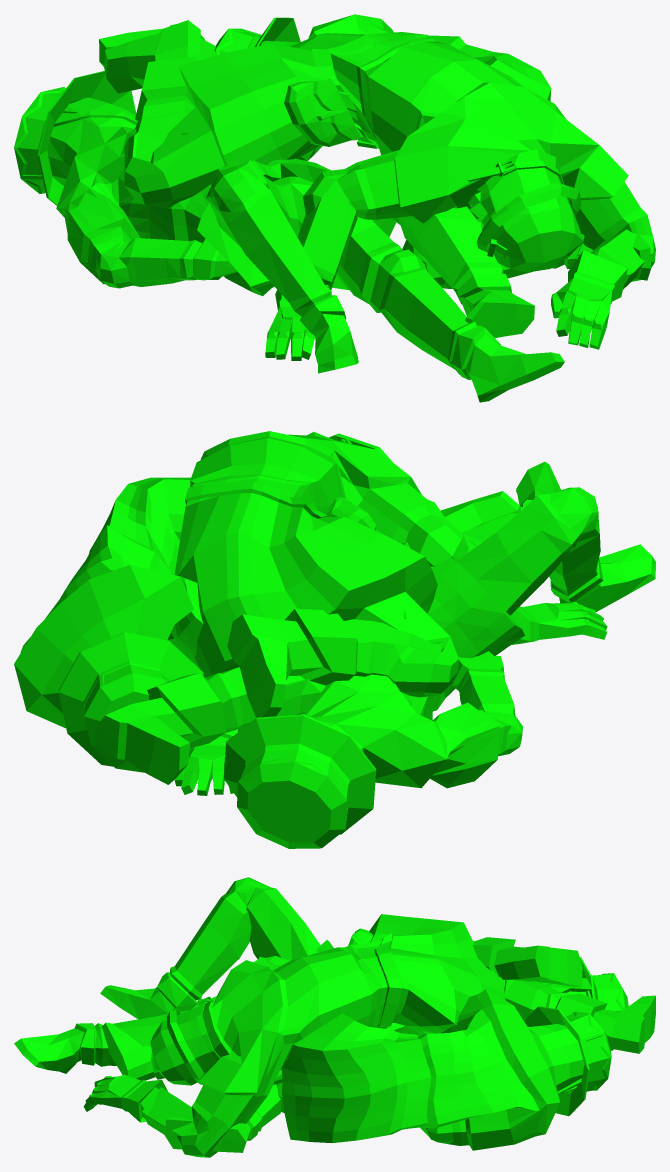
Rendered from SM_Corpse_Pile_Human_Soldier_B_Fantasy.fbx.
The picture shows the model from 3 angles, top to bottom: view 1: azimuth 30°, elevation 25°; view 2: azimuth 150°, elevation 25°; view 3: azimuth 270°, elevation 25°; orthographic projection. The views are drawn at different scales.
Visible parts, largest first — view 1: corpse-pile-human-soldier-b-medieval; view 2: corpse-pile-human-soldier-b-medieval; view 3: corpse-pile-human-soldier-b-medieval.
Boxes of the visible parts, left/top/right/bottom form: corpse-pile-human-soldier-b-medieval: left=14, top=14, right=655, bottom=402; corpse-pile-human-soldier-b-medieval: left=14, top=431, right=655, bottom=848; corpse-pile-human-soldier-b-medieval: left=14, top=877, right=655, bottom=1157.
Size of the model in its own units: 1.19 by 0.5834 by 1.95.
